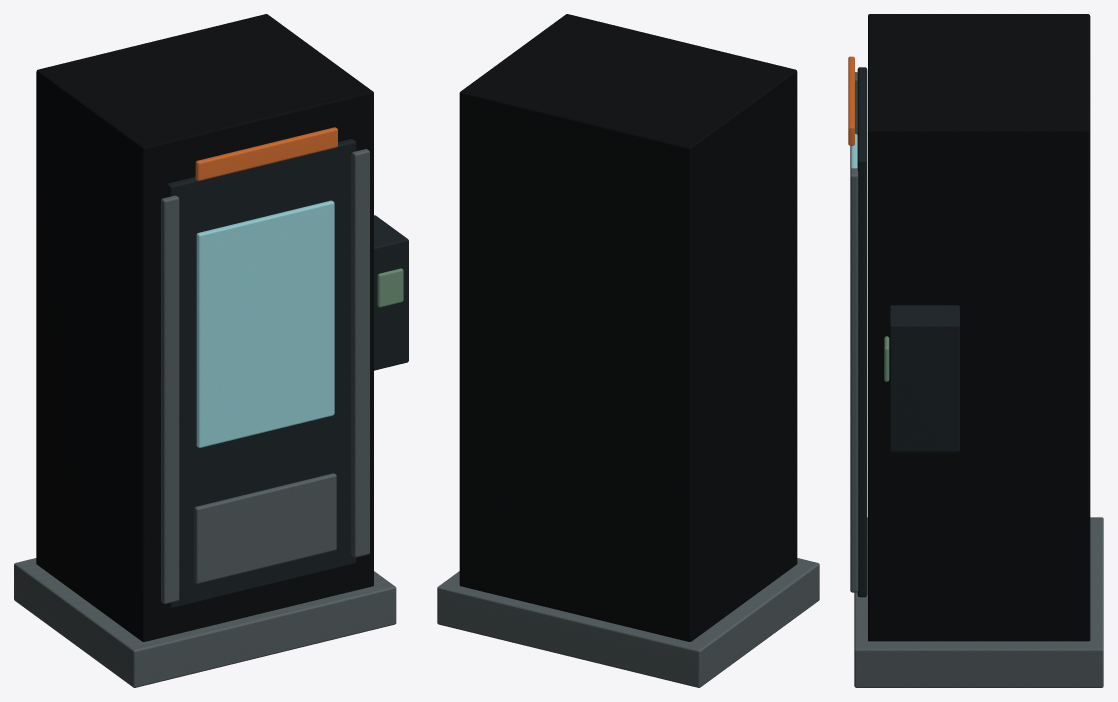
Rendered from CryoPod.glb.
The picture shows the model from 3 angles, left to right: view 1: azimuth 30°, elevation 25°; view 2: azimuth 150°, elevation 25°; view 3: azimuth 270°, elevation 25°; orthographic projection. The views are drawn at different scales.
Parts seen in each view (by area): view 1: CryoPod_Mesh; view 2: CryoPod_Mesh; view 3: CryoPod_Mesh.
Boxes of the visible parts, x1=… form: CryoPod_Mesh: x1=14, y1=14, x2=408, y2=687; CryoPod_Mesh: x1=437, y1=14, x2=819, y2=687; CryoPod_Mesh: x1=848, y1=14, x2=1103, y2=687.
Bounding box in the file's own units: 1.29 × 2.24 × 0.9425.
Materials: 6 (6 with a texture image).
